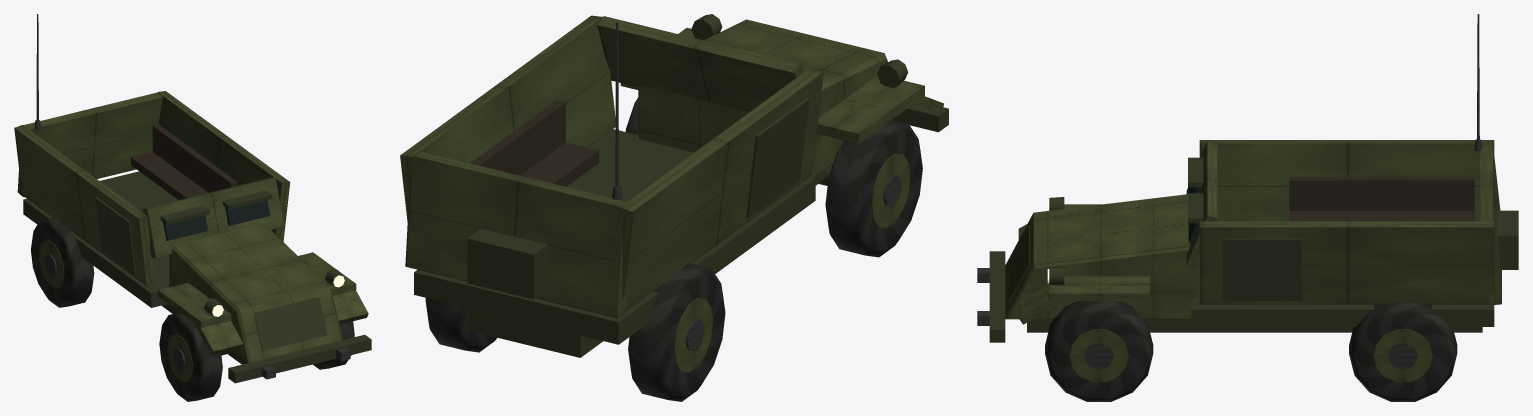
Rendered from btr40_lod1.glb.
3 renders of one model, left to right at view 1: azimuth 30°, elevation 25°; view 2: azimuth 150°, elevation 25°; view 3: azimuth 270°, elevation 25°, orthographic. The views are drawn at different scales.
Visible parts, largest first — view 1: BTR40_Scout; view 2: BTR40_Scout; view 3: BTR40_Scout.
Part boxes in pixels (bbox=[...]): BTR40_Scout: bbox=[14, 14, 371, 401]; BTR40_Scout: bbox=[400, 14, 948, 401]; BTR40_Scout: bbox=[977, 14, 1518, 401].
Bounding box in the file's own units: 2.02 × 3.24 × 5.11.
7 materials, 3 textured.
